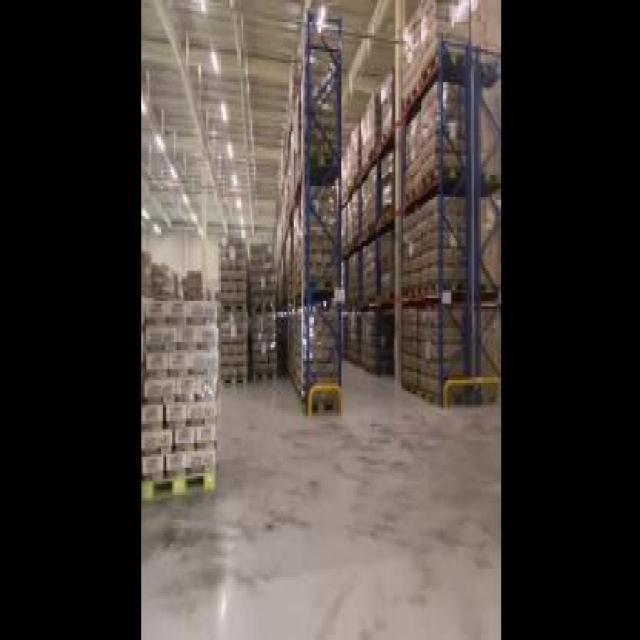box: (398, 19, 498, 419), (274, 66, 343, 410), (342, 85, 398, 388), (142, 290, 220, 498), (217, 235, 249, 386), (249, 238, 277, 383), (138, 249, 208, 303)
